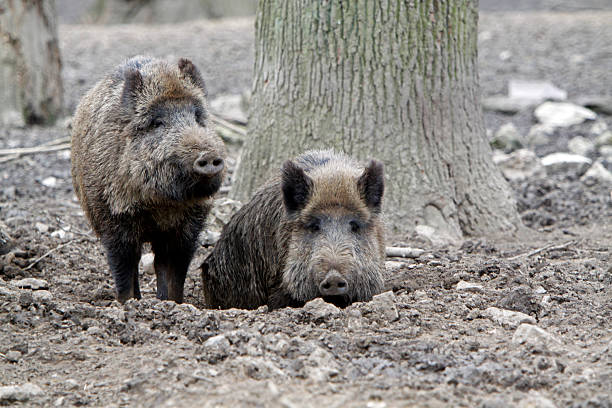pig: (108, 54, 225, 203), (270, 160, 392, 302)
